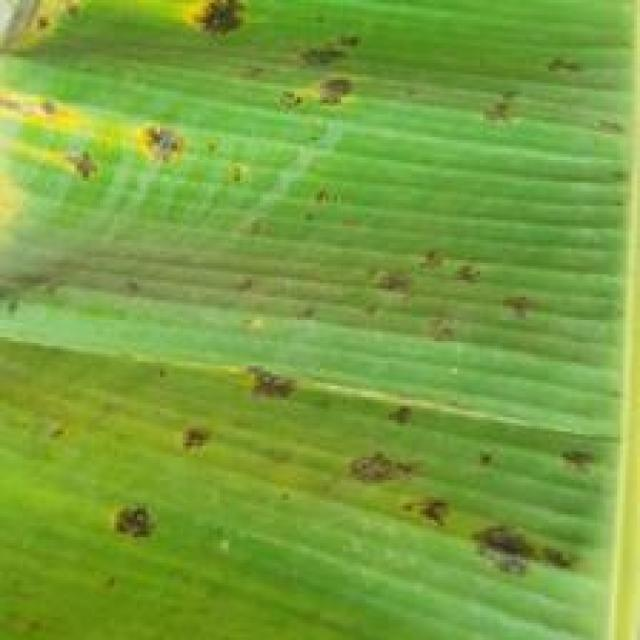Downey_mildrew: (87, 347, 635, 597), (0, 0, 640, 191), (295, 200, 600, 391)
